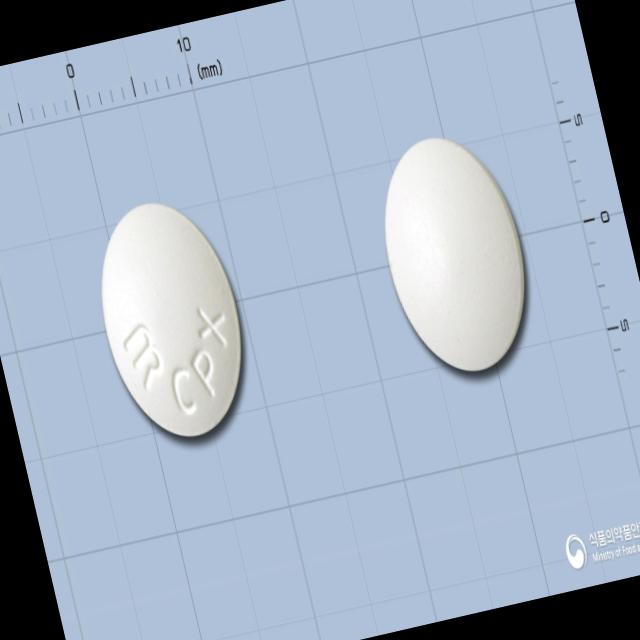Ciprofloxacin Tab- Mirae: (78, 184, 266, 455)
